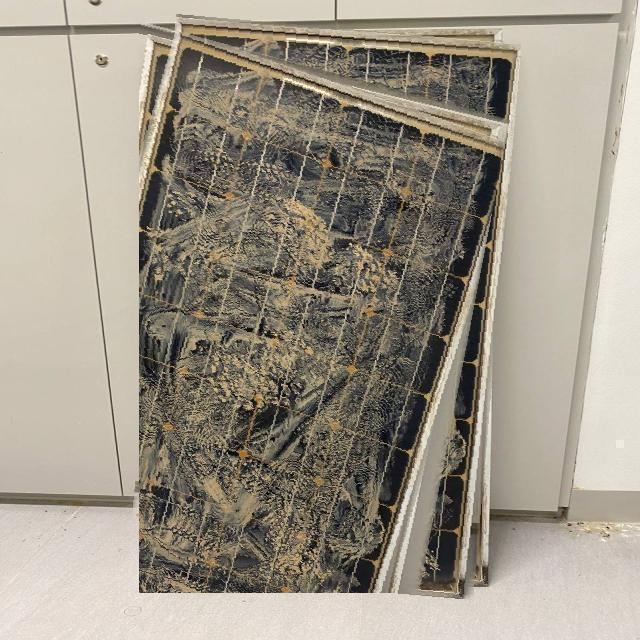Anomaly Solar Panel: (134, 28, 510, 597)
Surface Contaminant: (133, 28, 505, 595)
